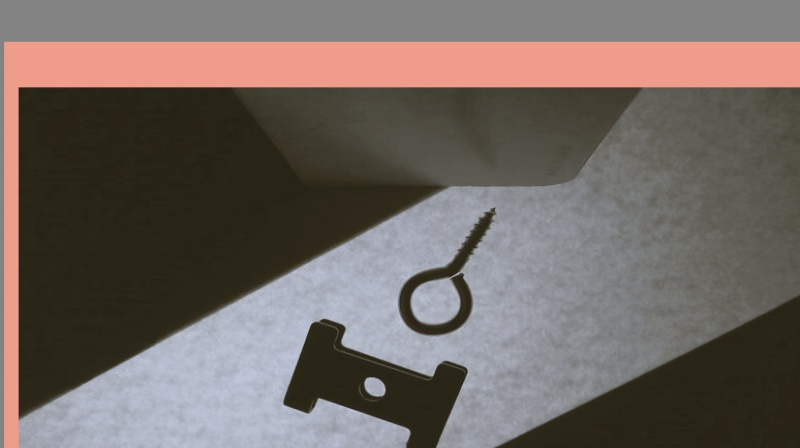O001: (394, 206, 499, 336)
O002: (282, 316, 470, 447)
